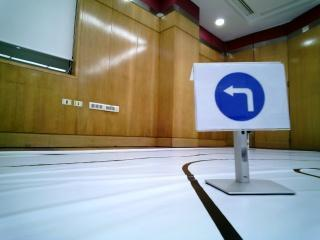left: (203, 66, 280, 126)
